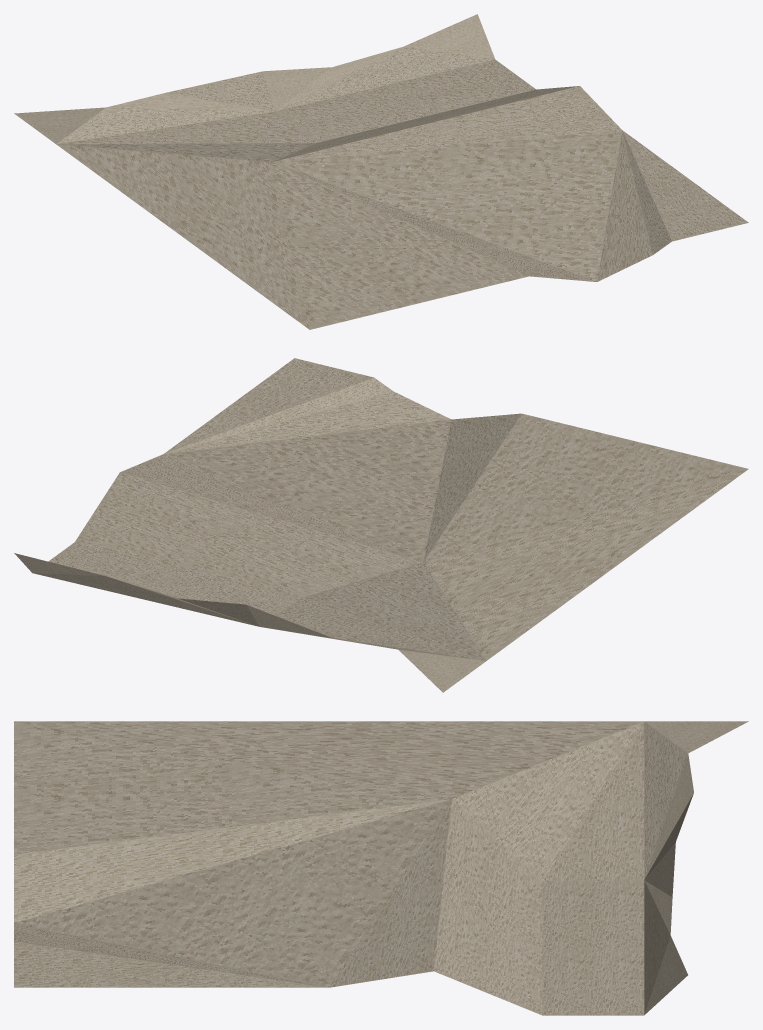
Rendered from lodseabed036.obj.
The picture shows the model from 3 angles, top to bottom: view 1: azimuth 30°, elevation 25°; view 2: azimuth 150°, elevation 25°; view 3: azimuth 270°, elevation 25°; orthographic projection. The views are drawn at different scales.
Visible parts, largest first — view 1: lodseabed036; view 2: lodseabed036; view 3: lodseabed036.
Part boxes in pixels (x1,y1,x2,y2): lodseabed036: [14, 14, 748, 329]; lodseabed036: [14, 358, 748, 692]; lodseabed036: [14, 721, 748, 1015].
Size of the model in its own units: 300 by 23.2 by 350.
Materials: 1 (1 with a texture image).
